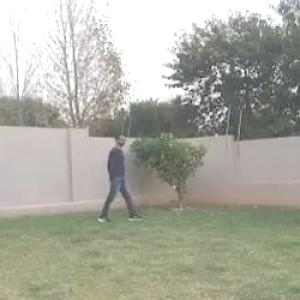follow: (106, 126, 130, 223)
